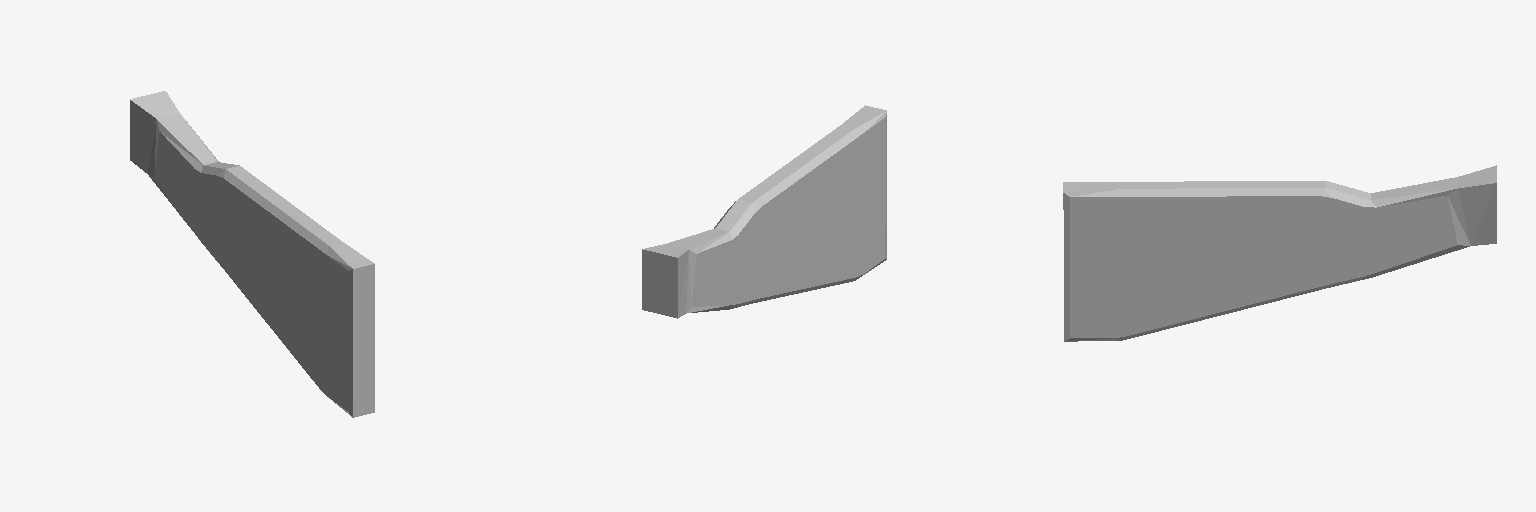
Rendered from akstock.obj.
The picture shows the model from 3 angles: view 1: azimuth 30°, elevation 25°; view 2: azimuth 150°, elevation 25°; view 3: azimuth 270°, elevation 25°; orthographic projection.
Visible parts, largest first — view 1: defaultstock; view 2: defaultstock; view 3: defaultstock.
Boxes of the visible parts, x1=… form: defaultstock: x1=130, y1=91, x2=374, y2=417; defaultstock: x1=642, y1=105, x2=886, y2=318; defaultstock: x1=1063, y1=165, x2=1496, y2=341.
Size of the model in its own units: 0.292 by 1.27 by 3.05.